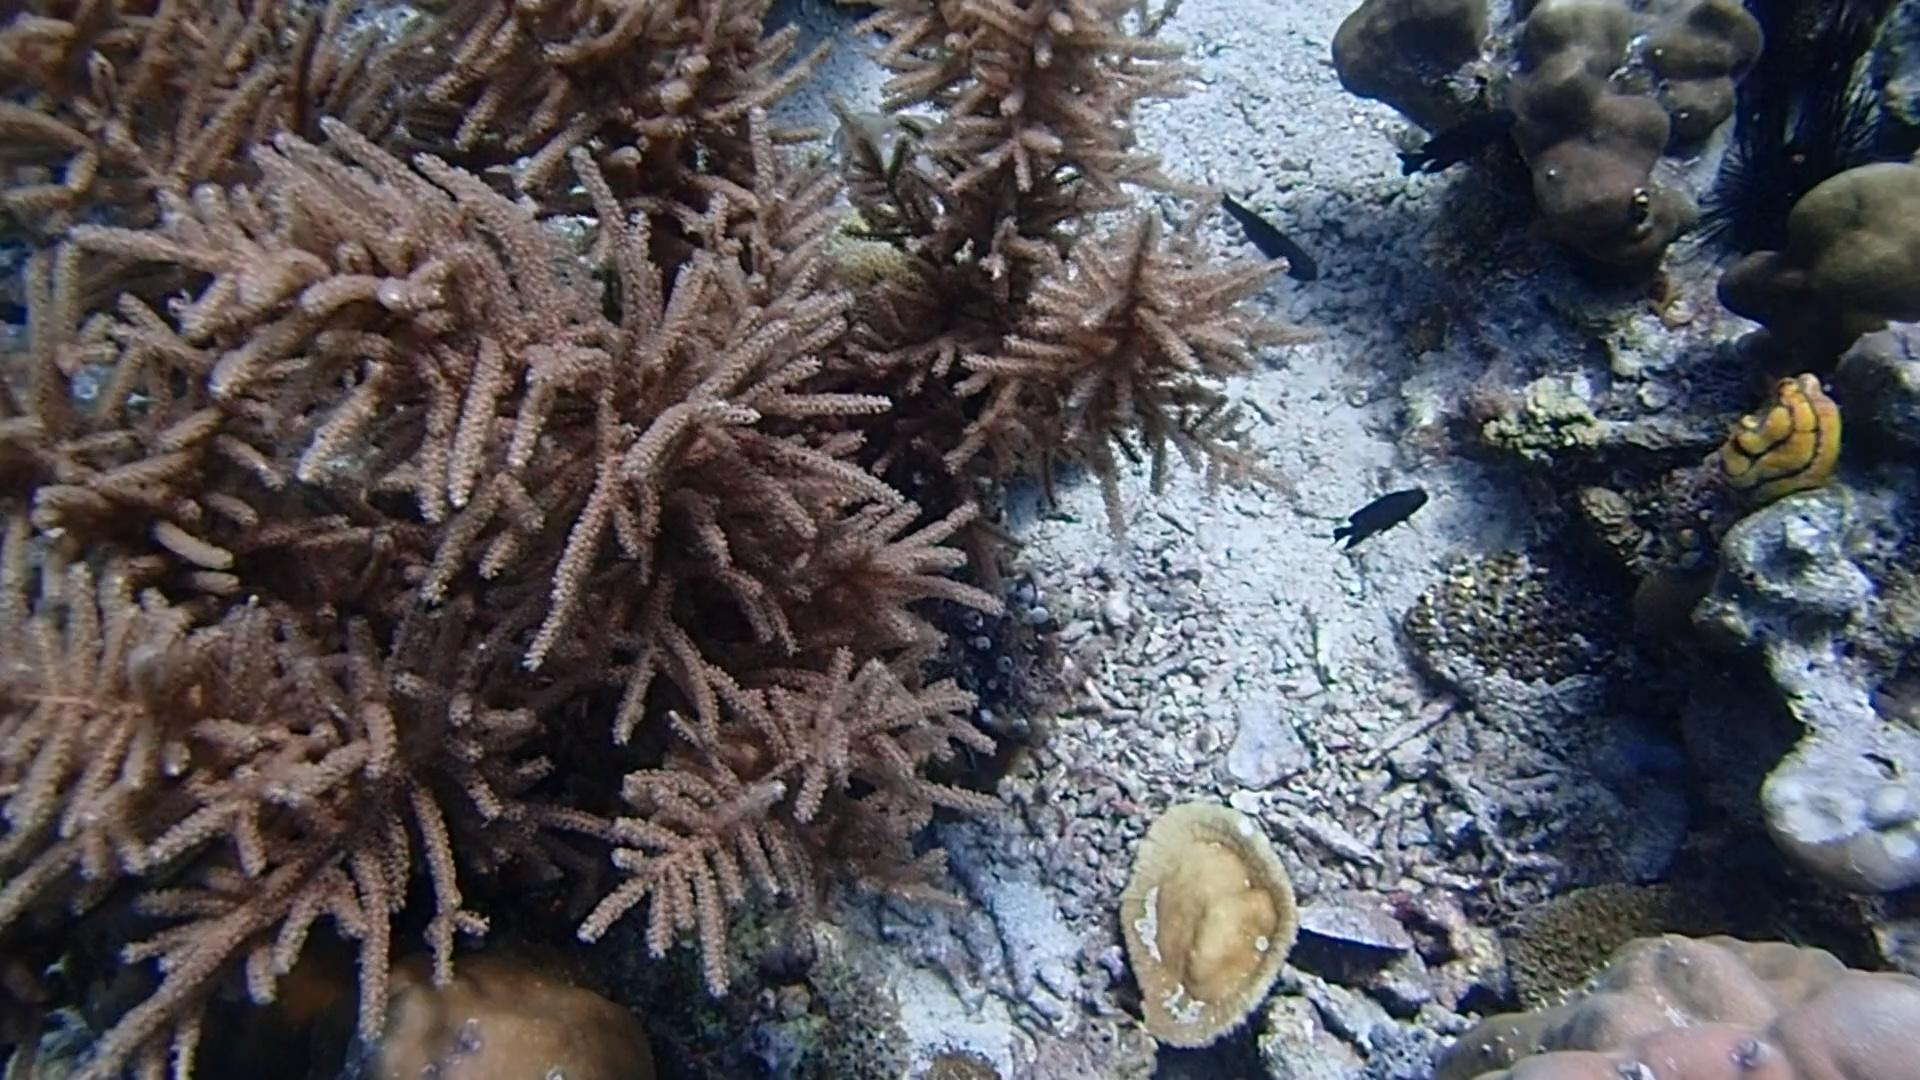Dark Fish: (1212, 177, 1329, 295), (1390, 104, 1522, 187), (1329, 481, 1429, 558)
